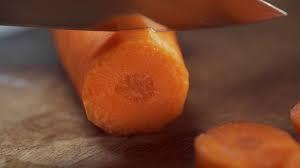Organic: (22, 16, 300, 168)
